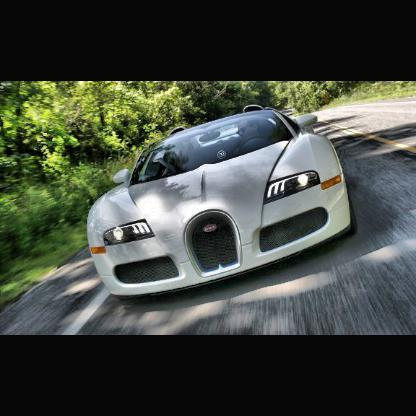Bugatti Veyron 16-4 Coupe 2009: (90, 106, 352, 295)
